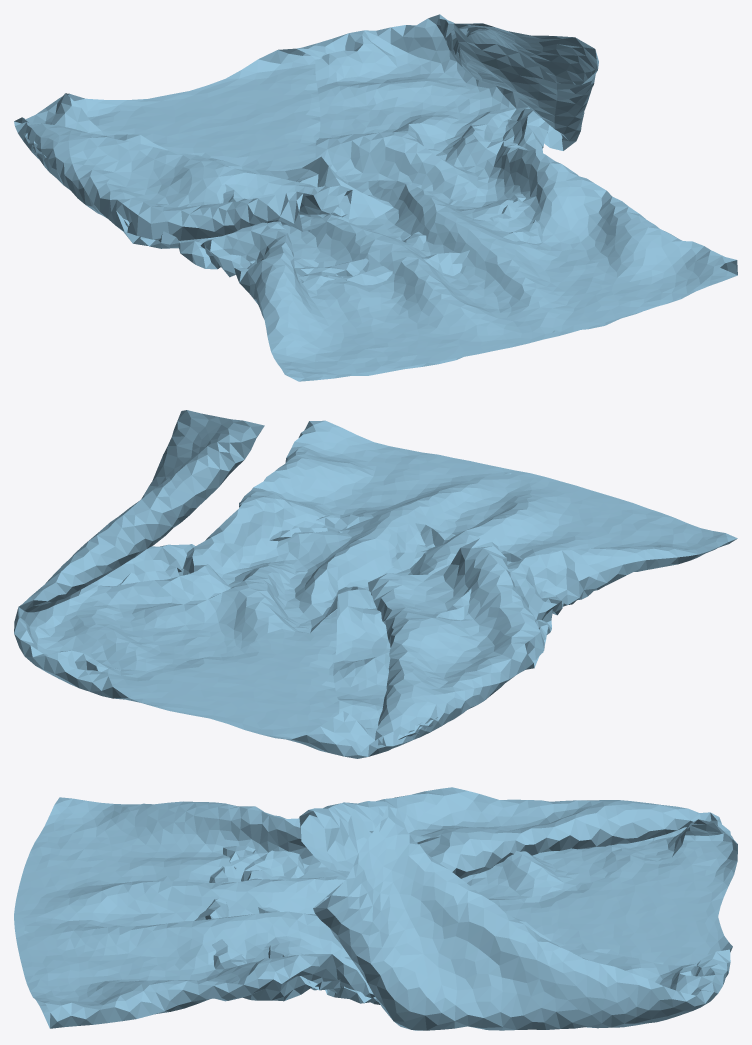
Rendered from frame_14.glb.
3 renders of one model, top to bottom at view 1: azimuth 30°, elevation 25°; view 2: azimuth 150°, elevation 25°; view 3: azimuth 270°, elevation 25°, orthographic. The views are drawn at different scales.
Visible parts, largest first — view 1: frame_14.obj; view 2: frame_14.obj; view 3: frame_14.obj.
Boxes of the visible parts, left/top/right/bottom form: frame_14.obj: left=14, top=14, right=737, bottom=381; frame_14.obj: left=14, top=410, right=737, bottom=758; frame_14.obj: left=14, top=787, right=737, bottom=1030.
Size of the model in its own units: 1.21 by 0.4135 by 1.58.
